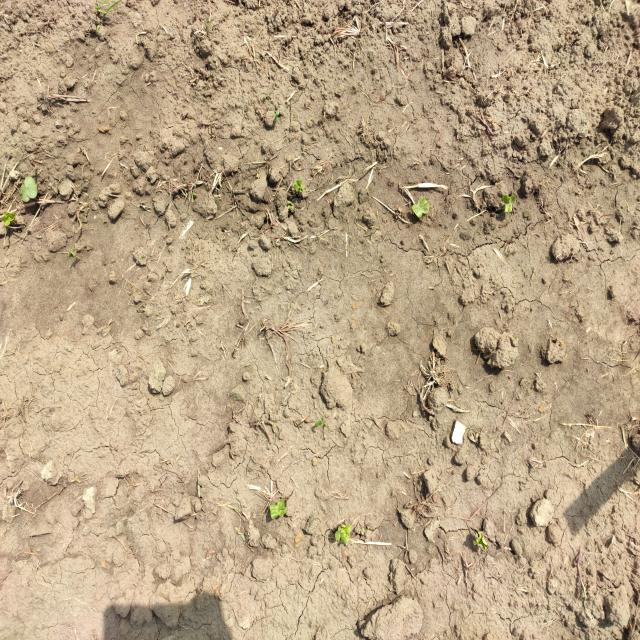seedling: (25, 177, 37, 199), (340, 524, 351, 545), (418, 197, 429, 214), (2, 213, 15, 227), (20, 184, 30, 202), (277, 499, 287, 516), (412, 204, 423, 218), (269, 504, 278, 520), (335, 526, 344, 540), (502, 195, 515, 204), (294, 179, 302, 191), (504, 203, 512, 212)
